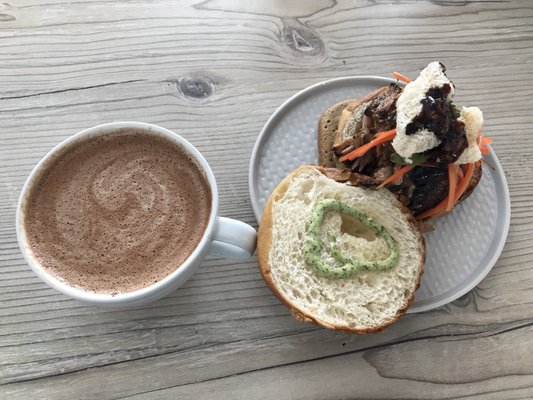soup: (257, 165, 427, 333)
sushi: (15, 121, 257, 309)
